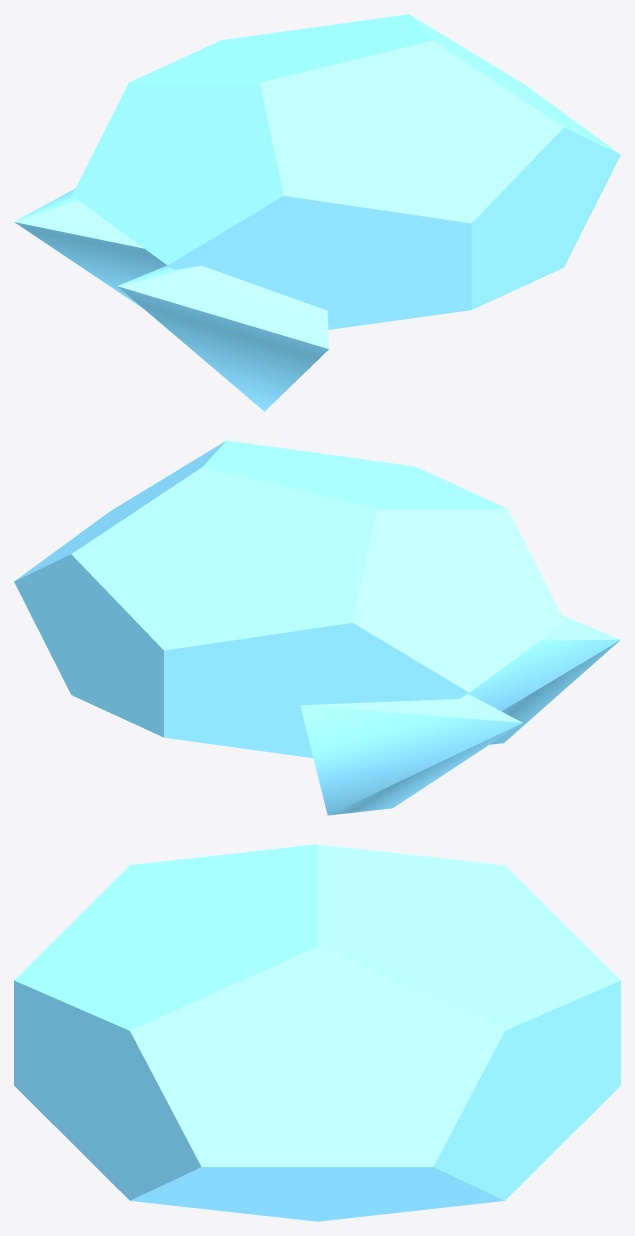
File: trash-bag-1.glb
3 views of the same model, one above another, from view 1: azimuth 30°, elevation 25°; view 2: azimuth 150°, elevation 25°; view 3: azimuth 270°, elevation 25° (orthographic). The views are drawn at different scales.
Parts seen in each view (by area): view 1: trash-bag-1; view 2: trash-bag-1; view 3: trash-bag-1.
Part boxes in pixels (x1,y1,x2,y2): trash-bag-1: (14, 14, 620, 411); trash-bag-1: (14, 440, 620, 815); trash-bag-1: (14, 844, 620, 1221).
Bounding box in the file's own units: 0.8202 × 0.4095 × 0.6988.
